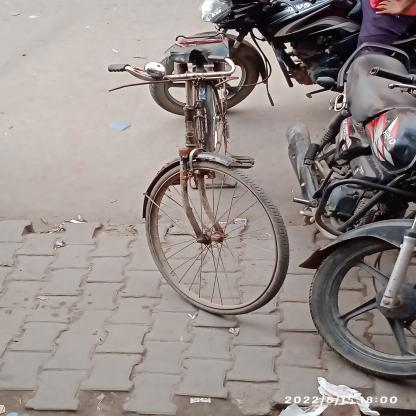bike: (121, 38, 293, 318)
